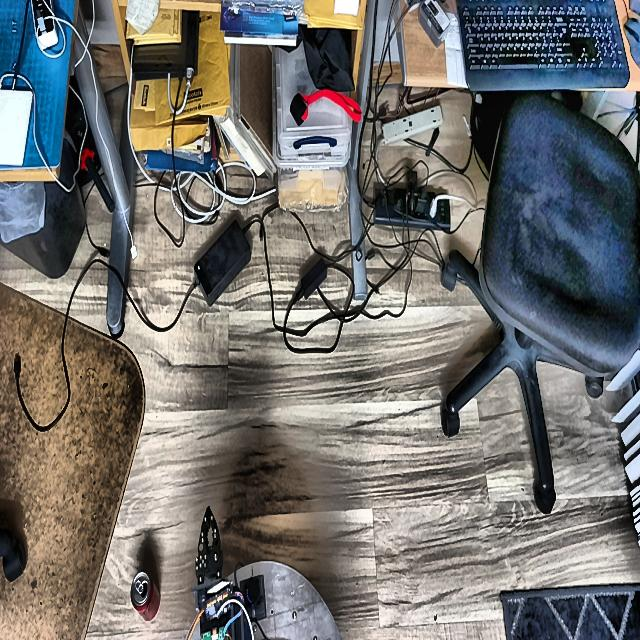Can: (131, 572, 160, 620)
